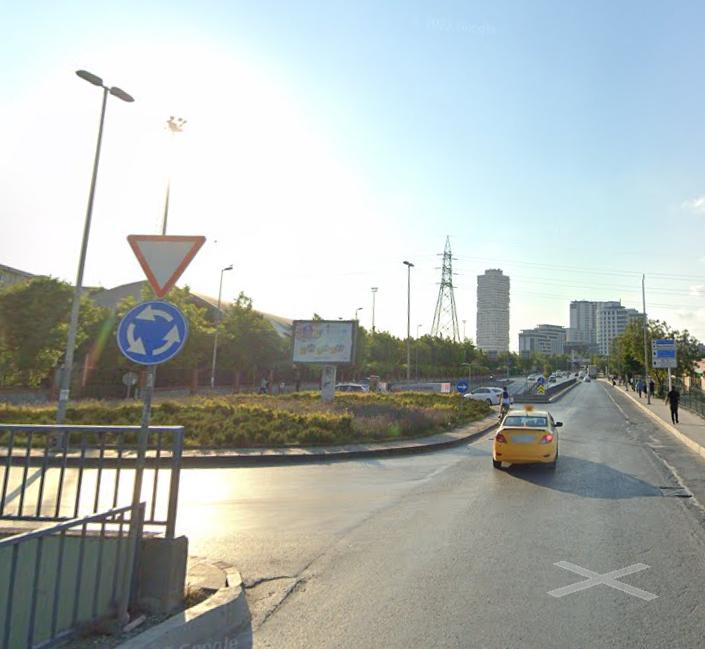crossroads: (120, 297, 185, 364)
